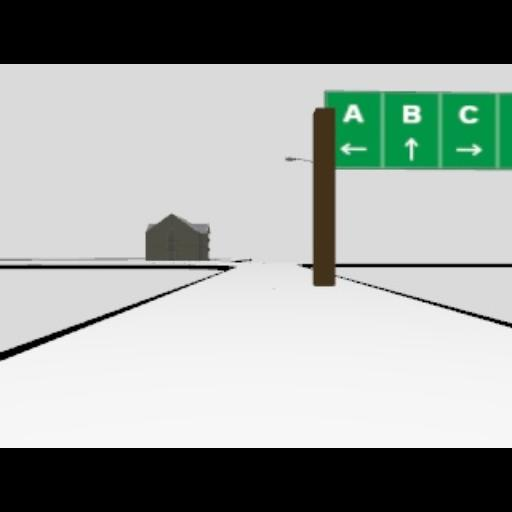A: (342, 102, 364, 124)
B: (402, 104, 420, 124)
C: (458, 104, 478, 124)
Left: (338, 142, 368, 156)
Right: (454, 143, 482, 157)
Straight: (403, 136, 417, 160)
